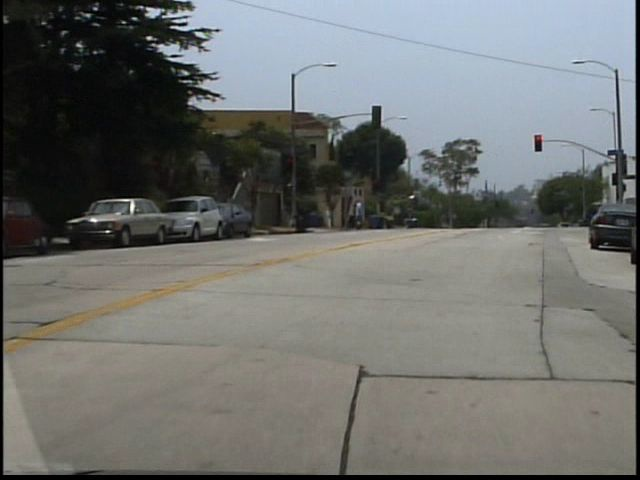person: (358, 199, 370, 232), (330, 204, 339, 231)
